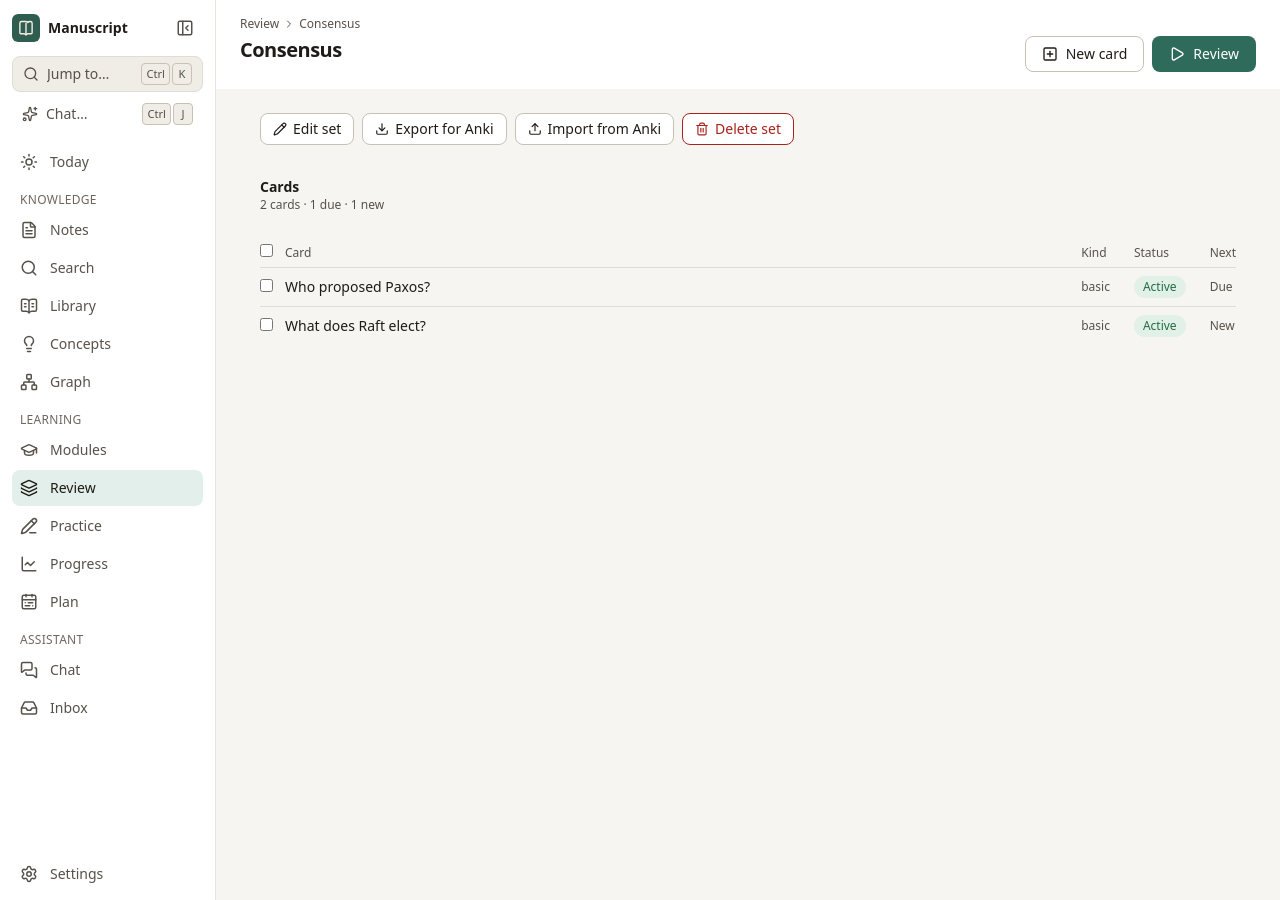
Test case: writing cards › asks before deleting selected cards
Click the checkbox named "Select all cards" at (266, 250), box [260,244,273,257]
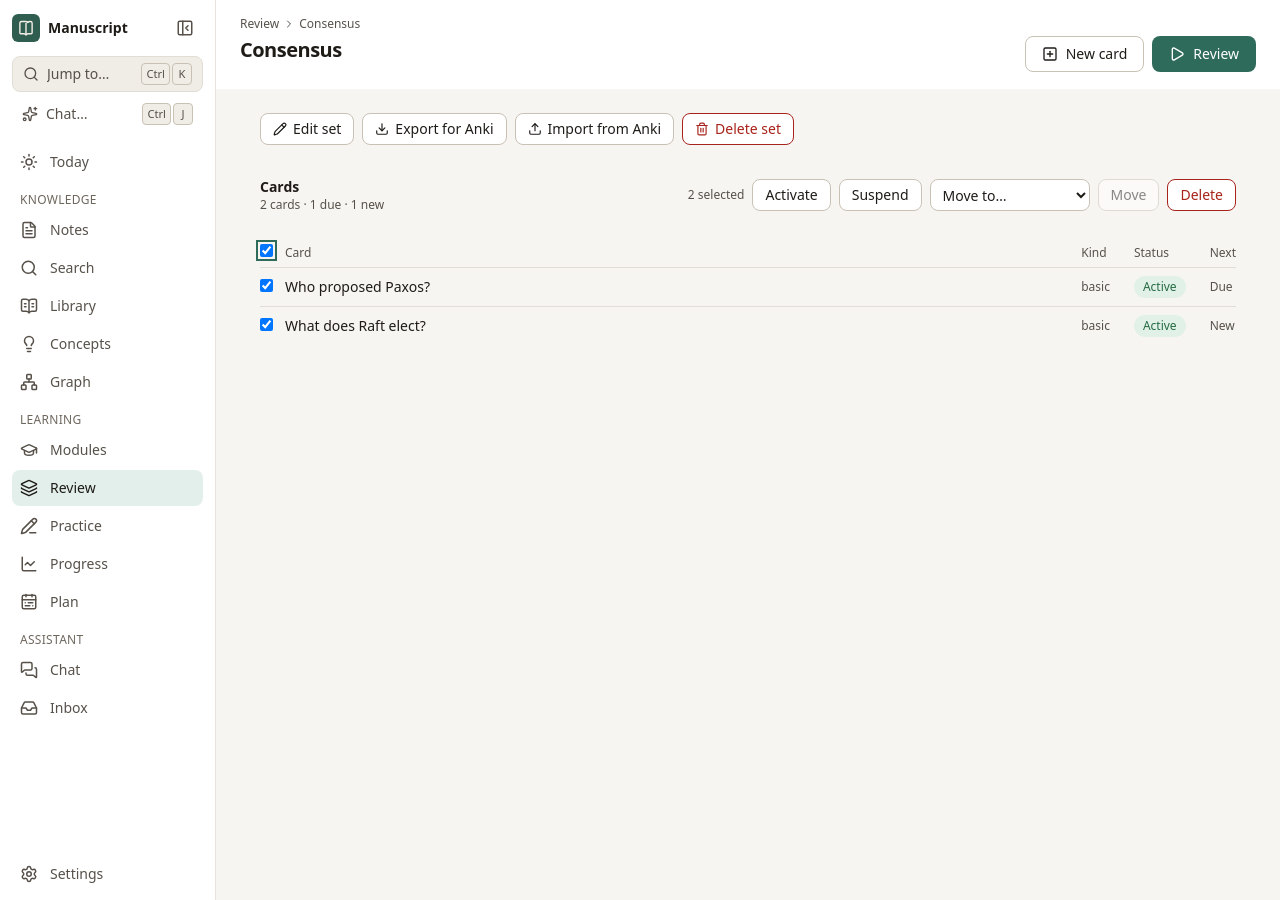
Click the button "Delete" at (1202, 195), box [1167,179,1236,211]
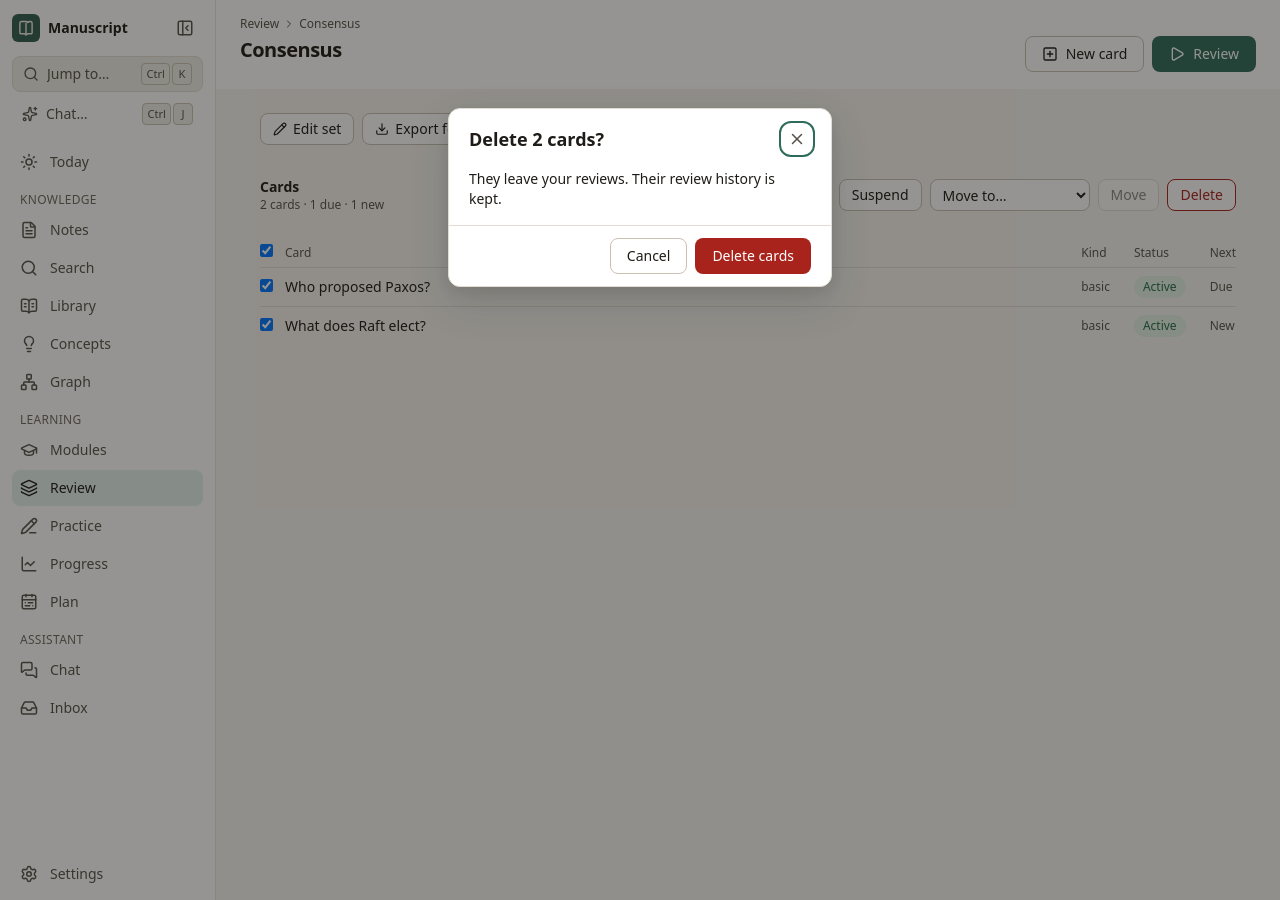
Click the button "Delete cards" at (753, 256), box [695,238,811,274]
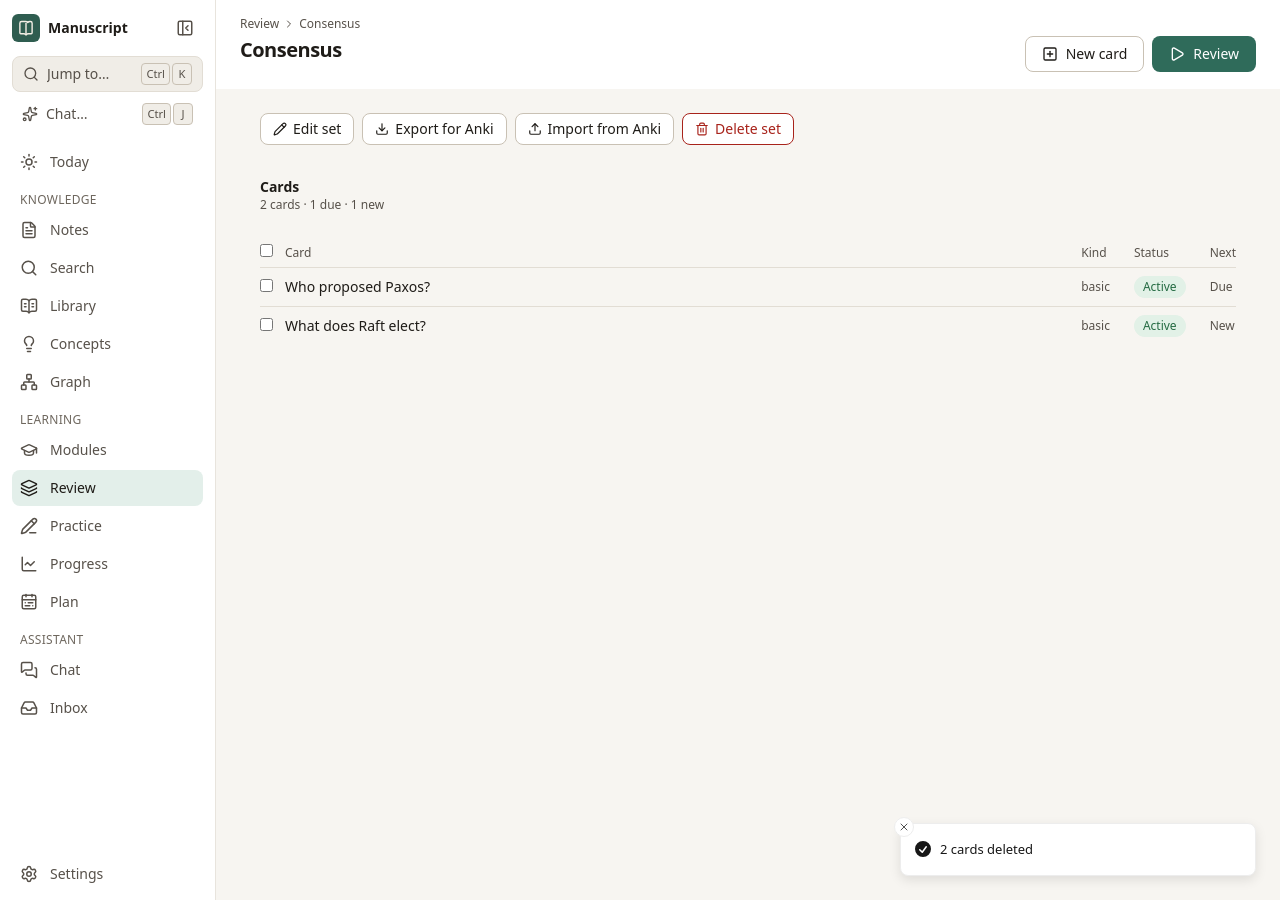
Expected: the text "2 cards deleted" is shown, [940,840,1033,859]
